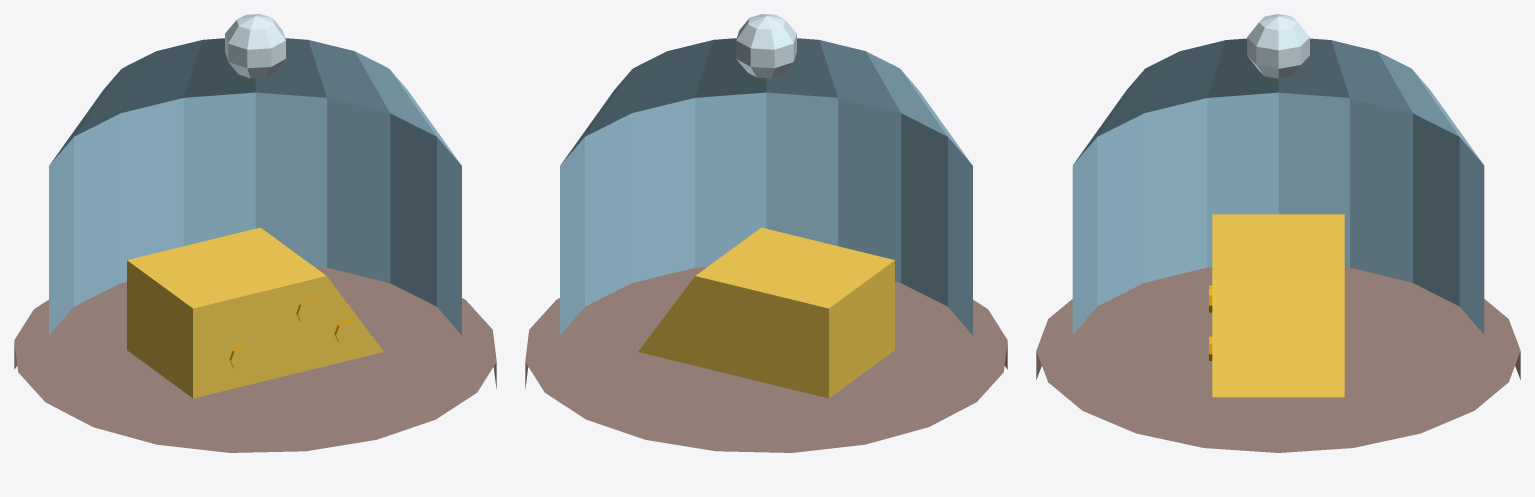
File: ostkupa.glb
The picture shows the model from 3 angles, left to right: view 1: azimuth 30°, elevation 25°; view 2: azimuth 150°, elevation 25°; view 3: azimuth 270°, elevation 25°; orthographic projection.
Parts seen in each view (by area): view 1: ostkupa; view 2: ostkupa; view 3: ostkupa.
Part boxes in pixels (box(x1,y1,x2,y2)): ostkupa: box(14, 14, 496, 452); ostkupa: box(525, 14, 1007, 452); ostkupa: box(1036, 14, 1520, 452).
Bounding box in the file's own units: 0.44 × 0.365 × 0.44.
